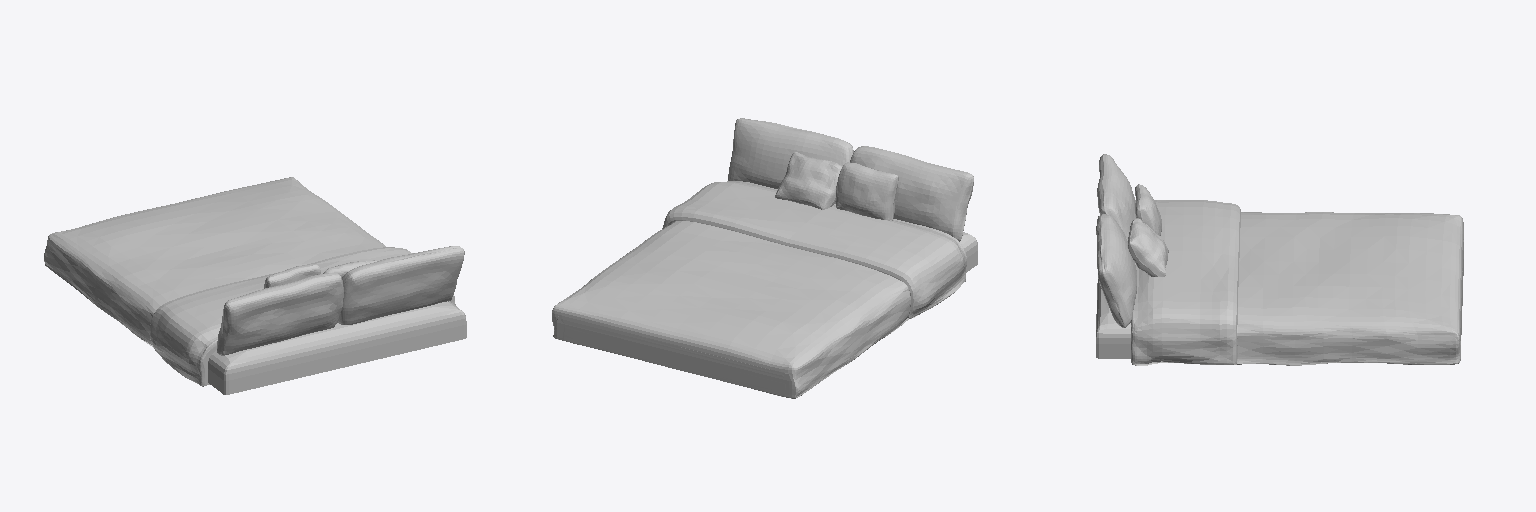
File: sheet.obj
3 views of the same model, side by side, from view 1: azimuth 30°, elevation 25°; view 2: azimuth 150°, elevation 25°; view 3: azimuth 270°, elevation 25° (orthographic).
Parts seen in each view (by area): view 1: Full_Size_Bed_with_White_Sheets_Black_V1; view 2: Full_Size_Bed_with_White_Sheets_Black_V1; view 3: Full_Size_Bed_with_White_Sheets_Black_V1.
Part boxes in pixels (left/top/right/bottom): Full_Size_Bed_with_White_Sheets_Black_V1: left=44, top=177, right=466, bottom=394; Full_Size_Bed_with_White_Sheets_Black_V1: left=552, top=118, right=977, bottom=398; Full_Size_Bed_with_White_Sheets_Black_V1: left=1096, top=154, right=1463, bottom=365.
Size of the model in its own units: 2.37 by 0.8437 by 2.88.